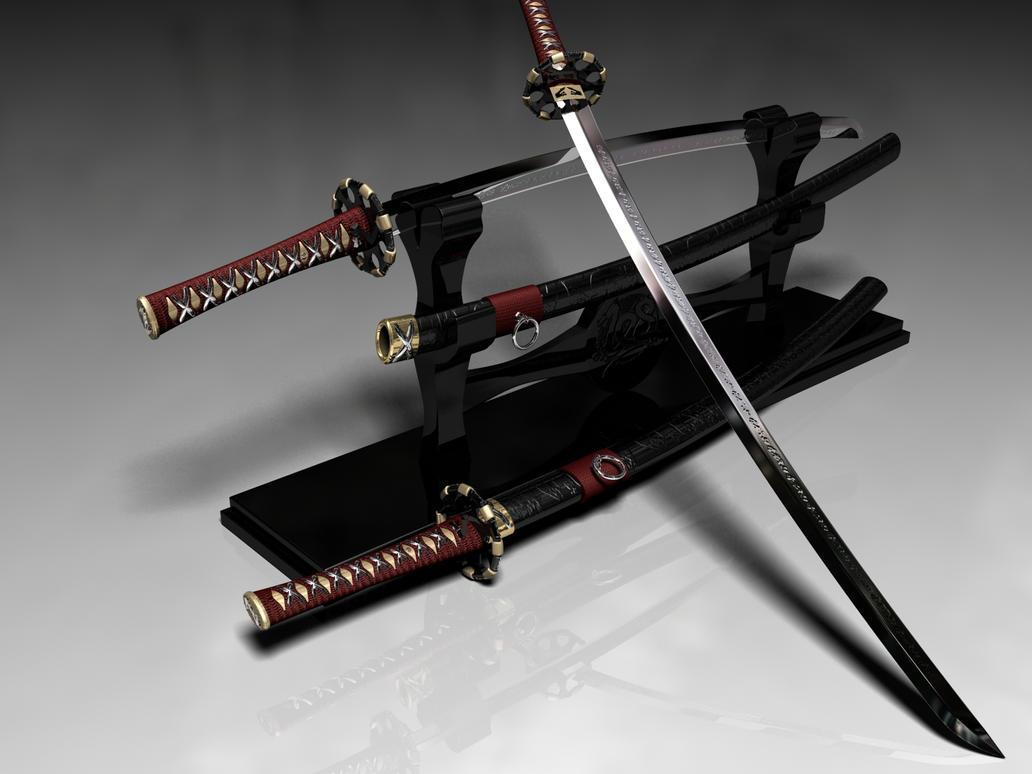espada: (502, 0, 1031, 774), (118, 98, 879, 364)
